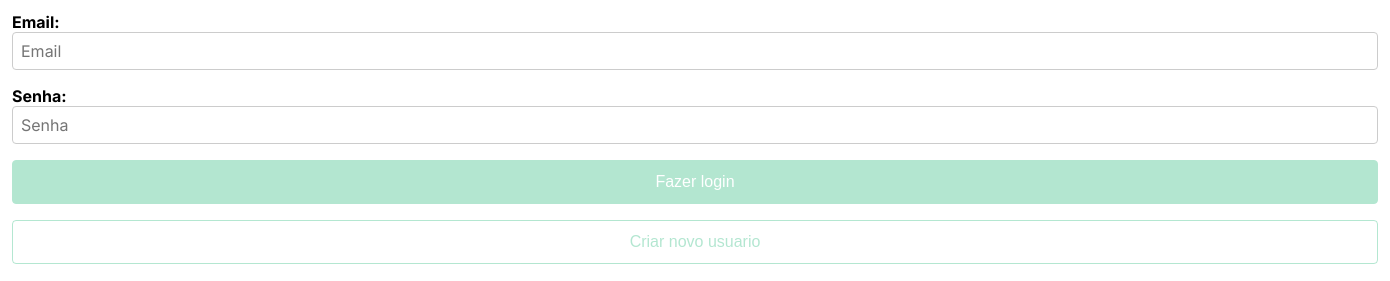
Scenario: Login › should enable login button when fields are filled
Type "testlogin@jest.com" into the field with test id "email" at (695, 51), box [12,32,1378,70]
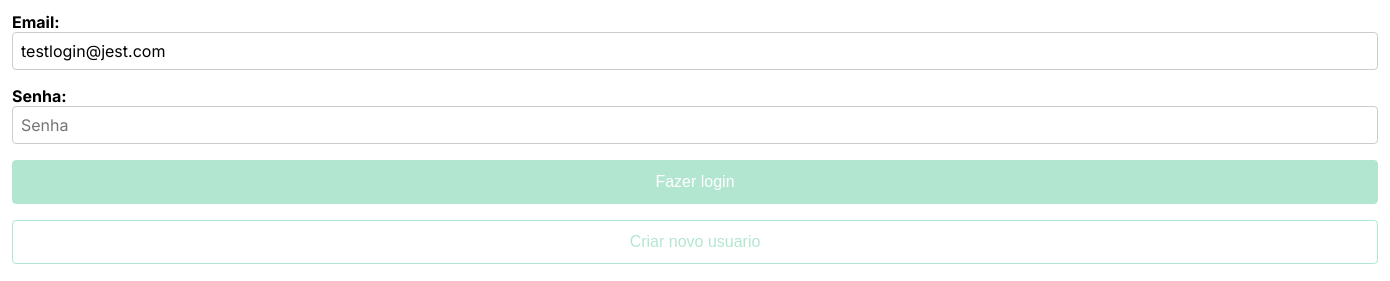
Type "password" into the password field with test id "password" at (695, 125), box [12,106,1378,144]
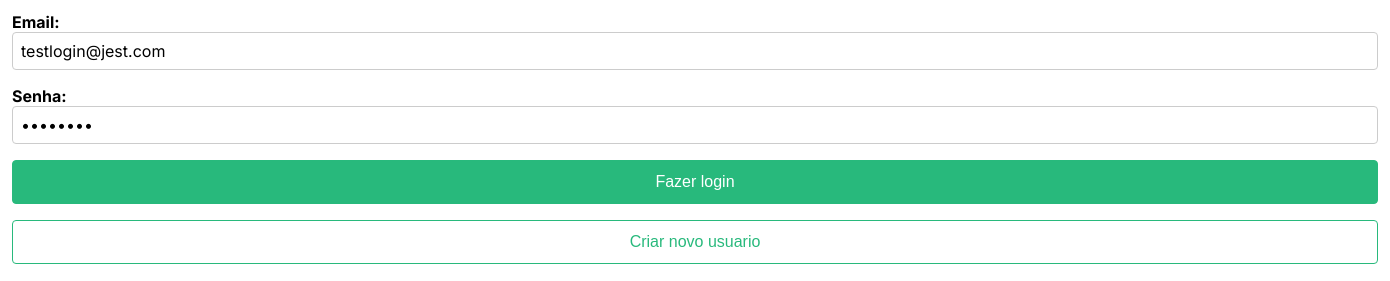
Check: the button with test id "loginButton" is enabled, box [12,160,1378,204]
